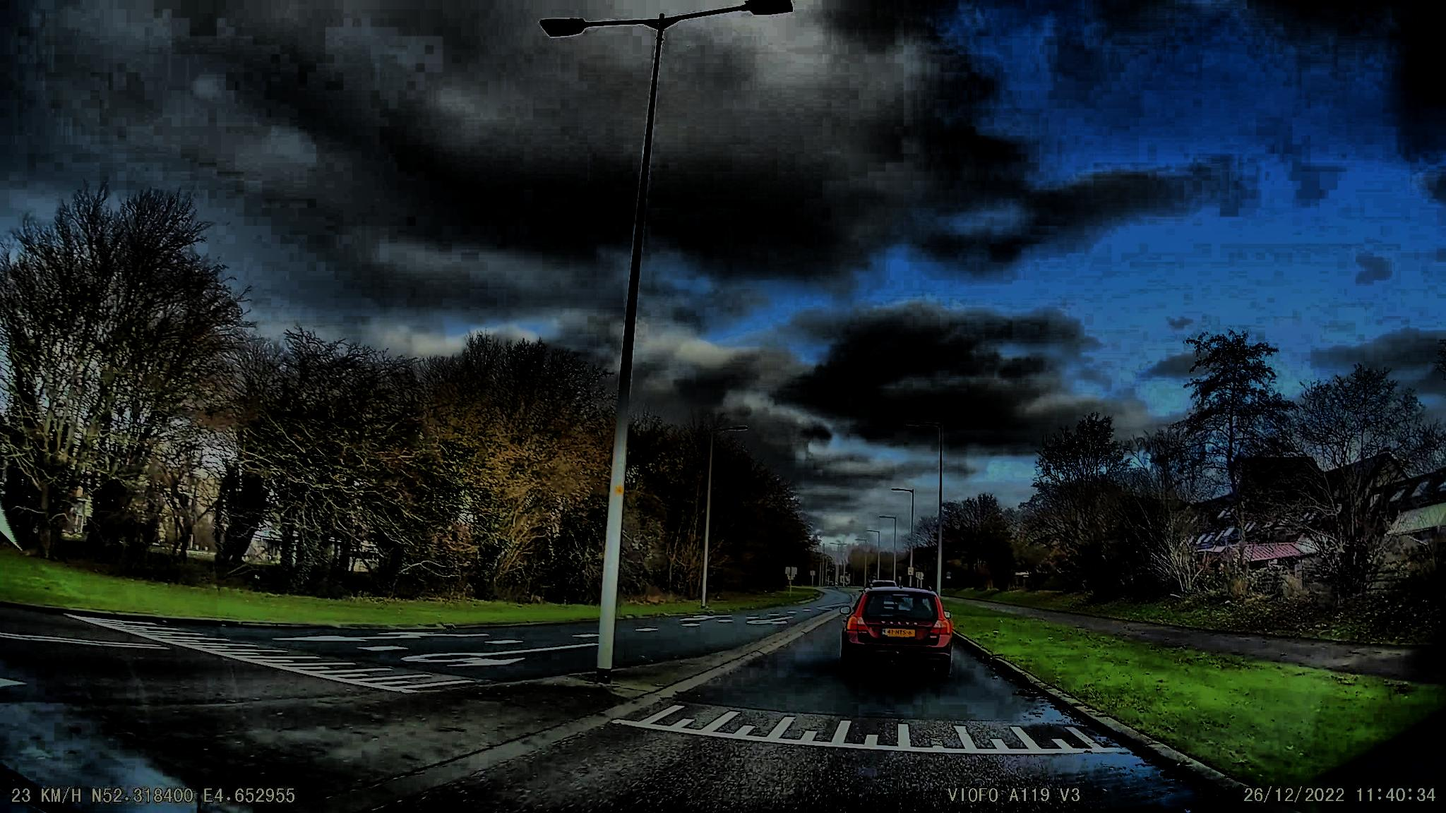Roads: (0, 602, 1267, 813)
